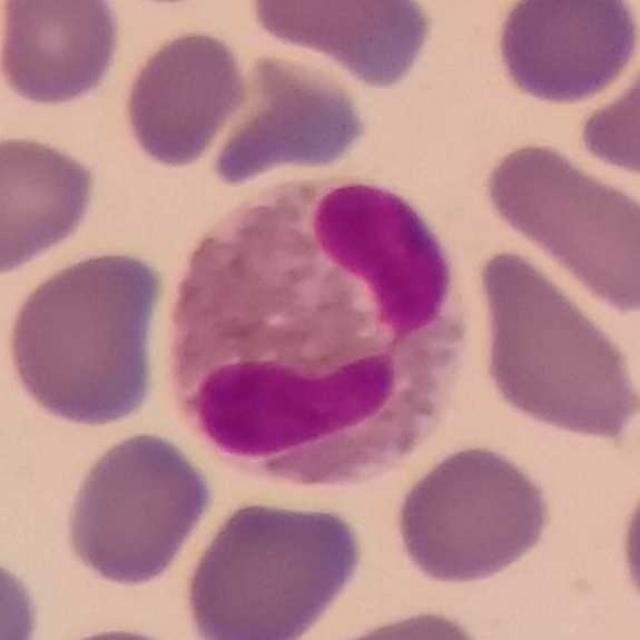Eosinophil: (146, 177, 470, 491)
RBC: (469, 241, 640, 445), (1, 245, 169, 432), (477, 134, 640, 320), (180, 493, 368, 640), (59, 427, 214, 590), (390, 440, 556, 590), (206, 49, 369, 187), (118, 25, 253, 172), (244, 0, 436, 88), (491, 0, 640, 107), (0, 128, 101, 277), (0, 0, 124, 110), (573, 37, 640, 181), (295, 604, 501, 640), (614, 462, 640, 632), (0, 546, 45, 640), (28, 622, 208, 640)
